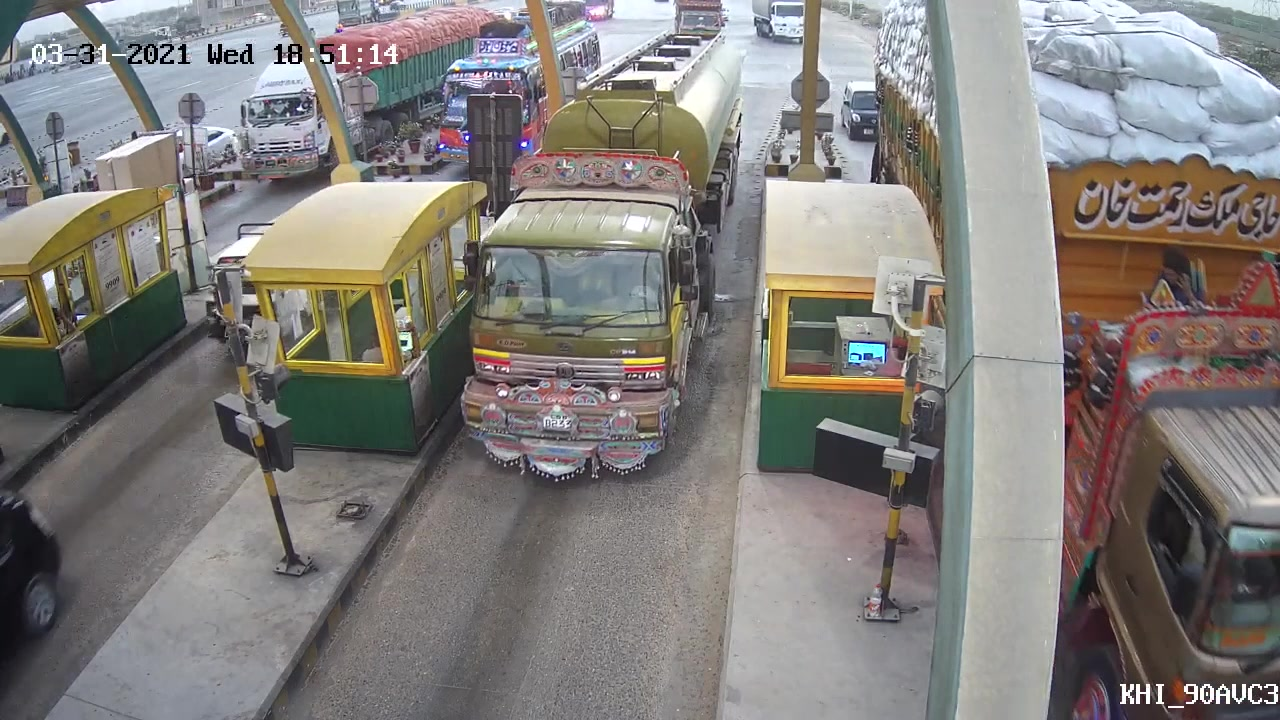F6: (454, 25, 752, 485)
